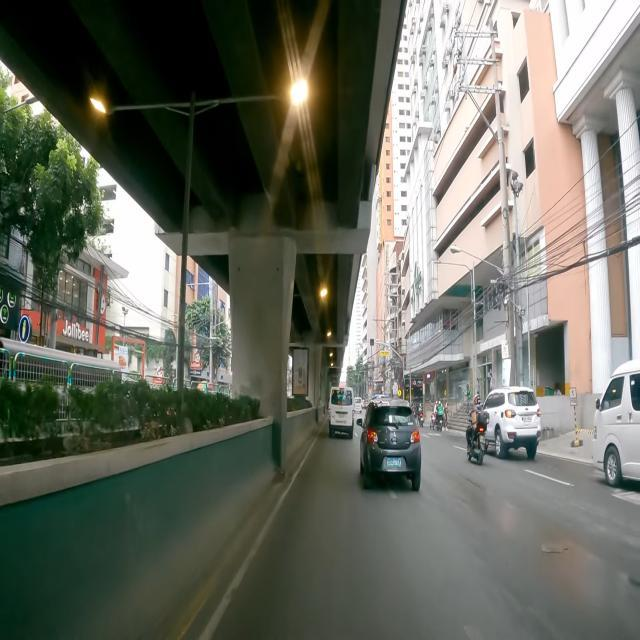car: (359, 398, 422, 494), (482, 386, 542, 459), (328, 387, 354, 439)
motorcycle: (463, 394, 490, 464), (416, 404, 424, 429), (436, 407, 444, 432), (430, 410, 436, 430)
